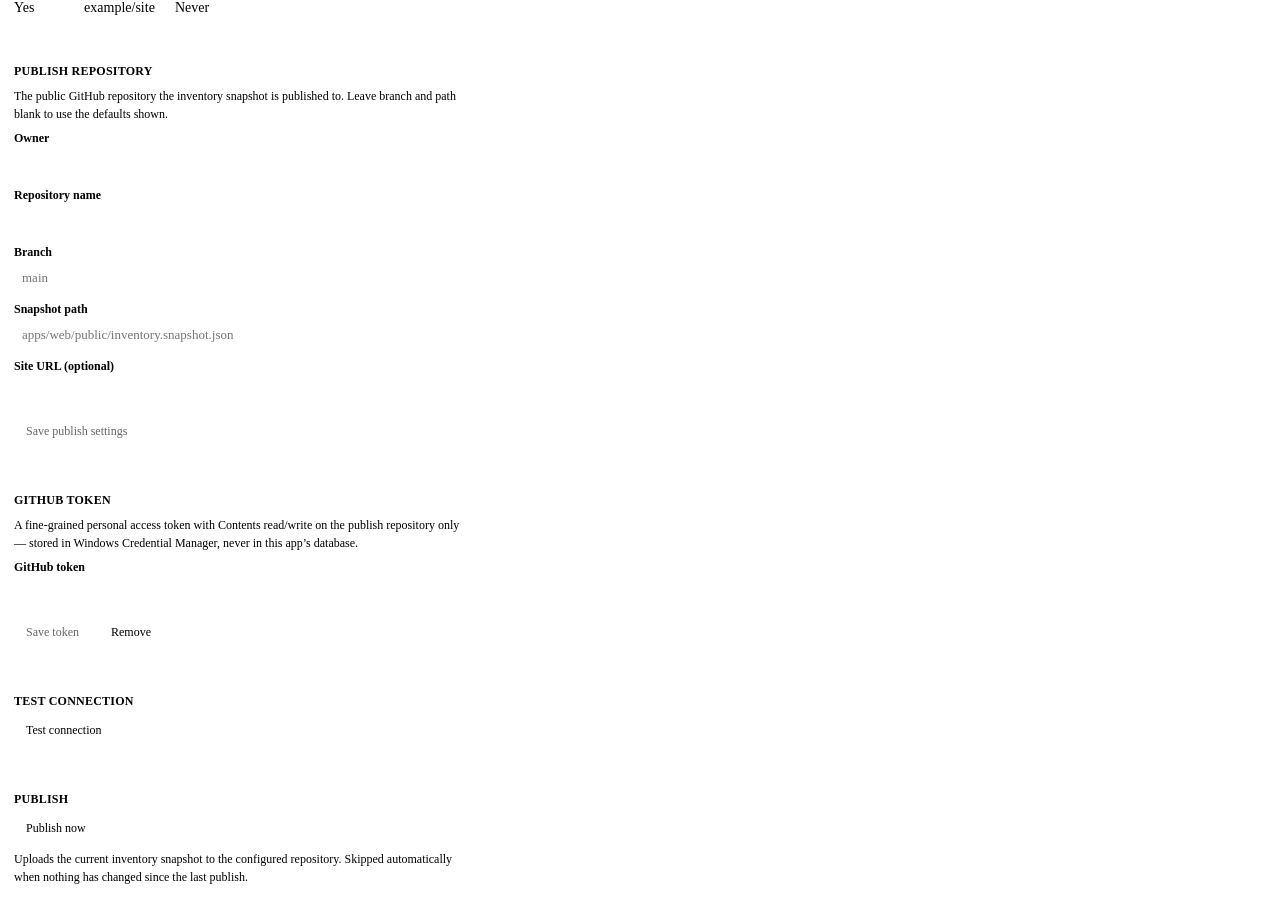
Test: Publish now › toasts the failure and refetches status when the publish fails
(page scrolled)
Expected: the text "Yes" is shown, [14,0,34,15]
Click the button "Publish now" at (56, 828), box [14,815,98,842]
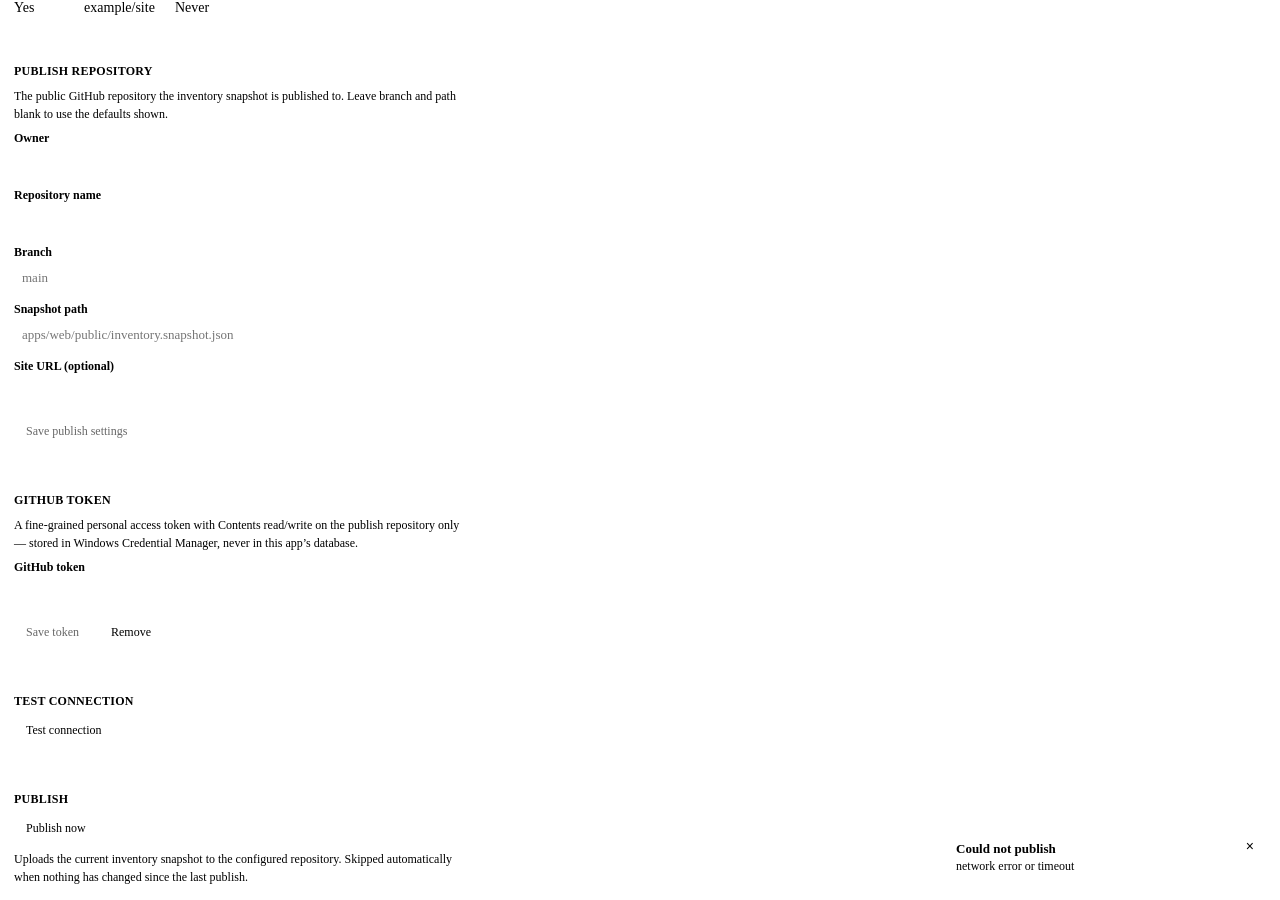
Result: the text "Could not publish" is shown at [956,841,1056,856]
Result: the text "network error or timeout" is shown at [956,859,1074,873]
